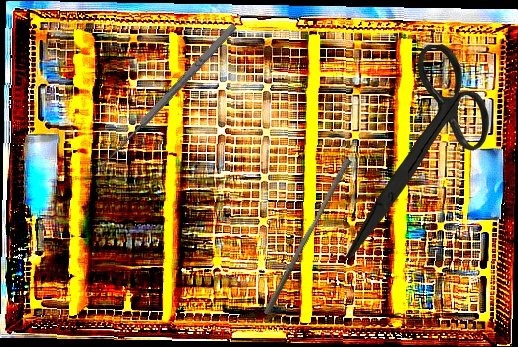Hook Surgical: (96, 21, 244, 178)
Iris Scissors: (341, 44, 492, 258)
Pusher: (262, 155, 353, 319)
